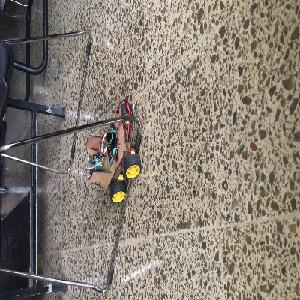Robot: (83, 103, 141, 203)
